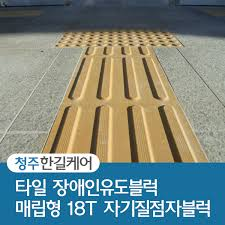guide_blocks: (57, 31, 179, 46)
